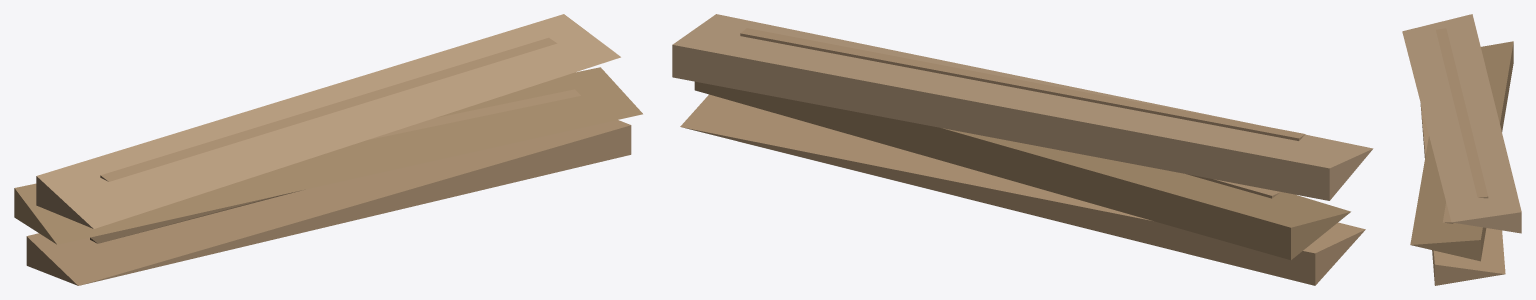
Rendered from 16-Crafting_tablon_madera.glb.
3 renders of one model, left to right at view 1: azimuth 30°, elevation 25°; view 2: azimuth 150°, elevation 25°; view 3: azimuth 270°, elevation 25°, orthographic. The views are drawn at different scales.
Visible parts, largest first — view 1: SM_Tablon_M_Tablon_C, SM_Tablon_M_Tablon_A, SM_Tablon_M_Tablon_B, SM_Tablon_M_Veta_3, SM_Tablon_M_Veta_2, SM_Tablon_M_Veta_1; view 2: SM_Tablon_M_Tablon_C, SM_Tablon_M_Tablon_B, SM_Tablon_M_Tablon_A, SM_Tablon_M_Veta_3, SM_Tablon_M_Veta_2; view 3: SM_Tablon_M_Tablon_C, SM_Tablon_M_Tablon_B, SM_Tablon_M_Tablon_A, SM_Tablon_M_Veta_3, SM_Tablon_M_Veta_2.
Boxes of the visible parts, <box> form: SM_Tablon_M_Tablon_C: <box>36,14,620,228</box>; SM_Tablon_M_Tablon_A: <box>26,120,631,285</box>; SM_Tablon_M_Tablon_B: <box>14,67,642,244</box>; SM_Tablon_M_Veta_3: <box>100,37,557,181</box>; SM_Tablon_M_Veta_2: <box>367,89,580,140</box>; SM_Tablon_M_Veta_1: <box>90,190,301,243</box>; SM_Tablon_M_Tablon_C: <box>672,14,1373,200</box>; SM_Tablon_M_Tablon_B: <box>694,81,1350,260</box>; SM_Tablon_M_Tablon_A: <box>680,94,1365,285</box>; SM_Tablon_M_Veta_3: <box>740,28,1305,140</box>; SM_Tablon_M_Veta_2: <box>1186,174,1280,198</box>; SM_Tablon_M_Tablon_C: <box>1402,14,1521,233</box>; SM_Tablon_M_Tablon_B: <box>1410,41,1513,261</box>; SM_Tablon_M_Tablon_A: <box>1420,104,1505,285</box>; SM_Tablon_M_Veta_3: <box>1436,28,1488,198</box>; SM_Tablon_M_Veta_2: <box>1442,202,1453,223</box>.
Size of the model in its own units: 1.21 by 0.2055 by 0.3044.
